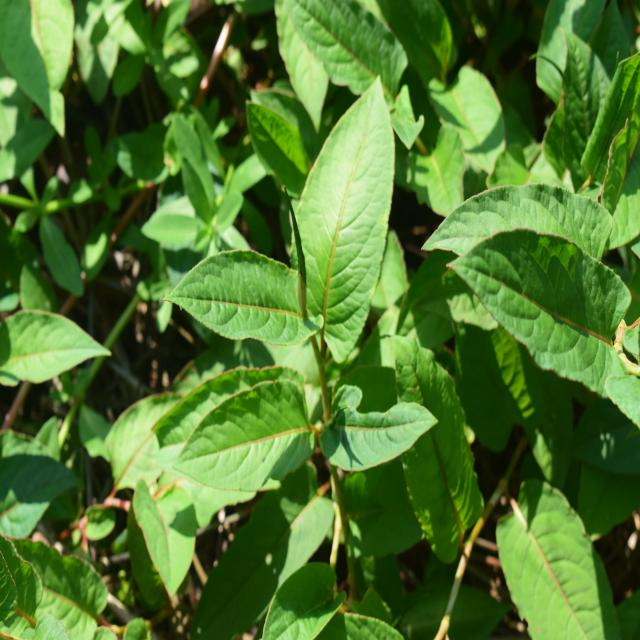Chinese_knotweed: (162, 90, 434, 518)
